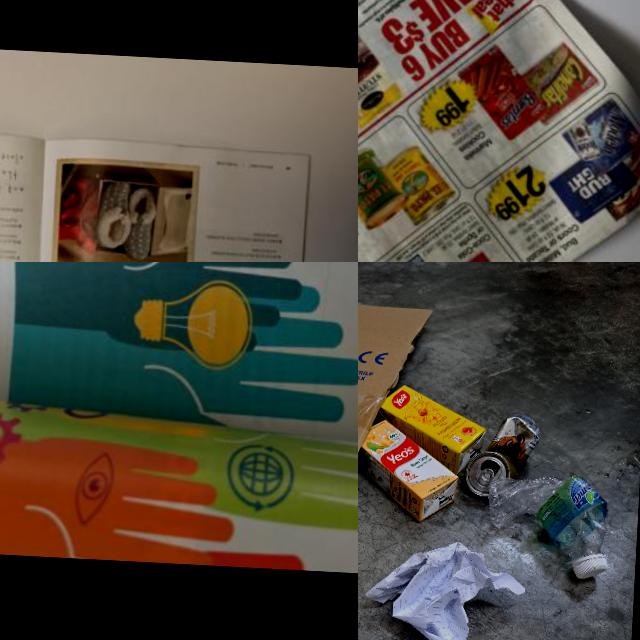aba de lata: (476, 466, 498, 496)
caixinha: (358, 417, 458, 522), (384, 384, 487, 472)
garrafa plástica: (486, 466, 614, 582)
lata: (467, 406, 541, 503)
papel: (0, 262, 358, 584), (358, 0, 640, 262), (0, 120, 307, 262), (360, 538, 528, 640)
papelão: (358, 278, 435, 567)
tampa plástica: (570, 551, 613, 580)
